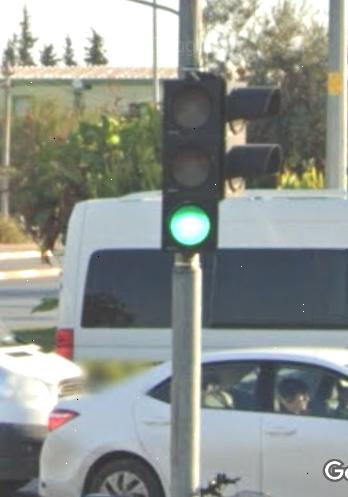greenlight: (161, 74, 223, 249)
